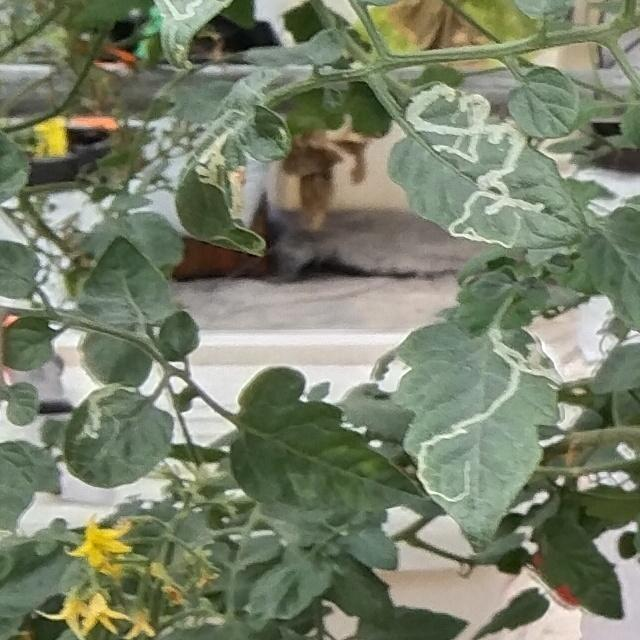Healthy: (80, 232, 178, 327), (507, 63, 579, 138)
Leaf_Miner: (394, 317, 560, 551), (388, 81, 591, 252), (174, 64, 291, 259), (62, 382, 176, 490), (153, 0, 234, 69)
